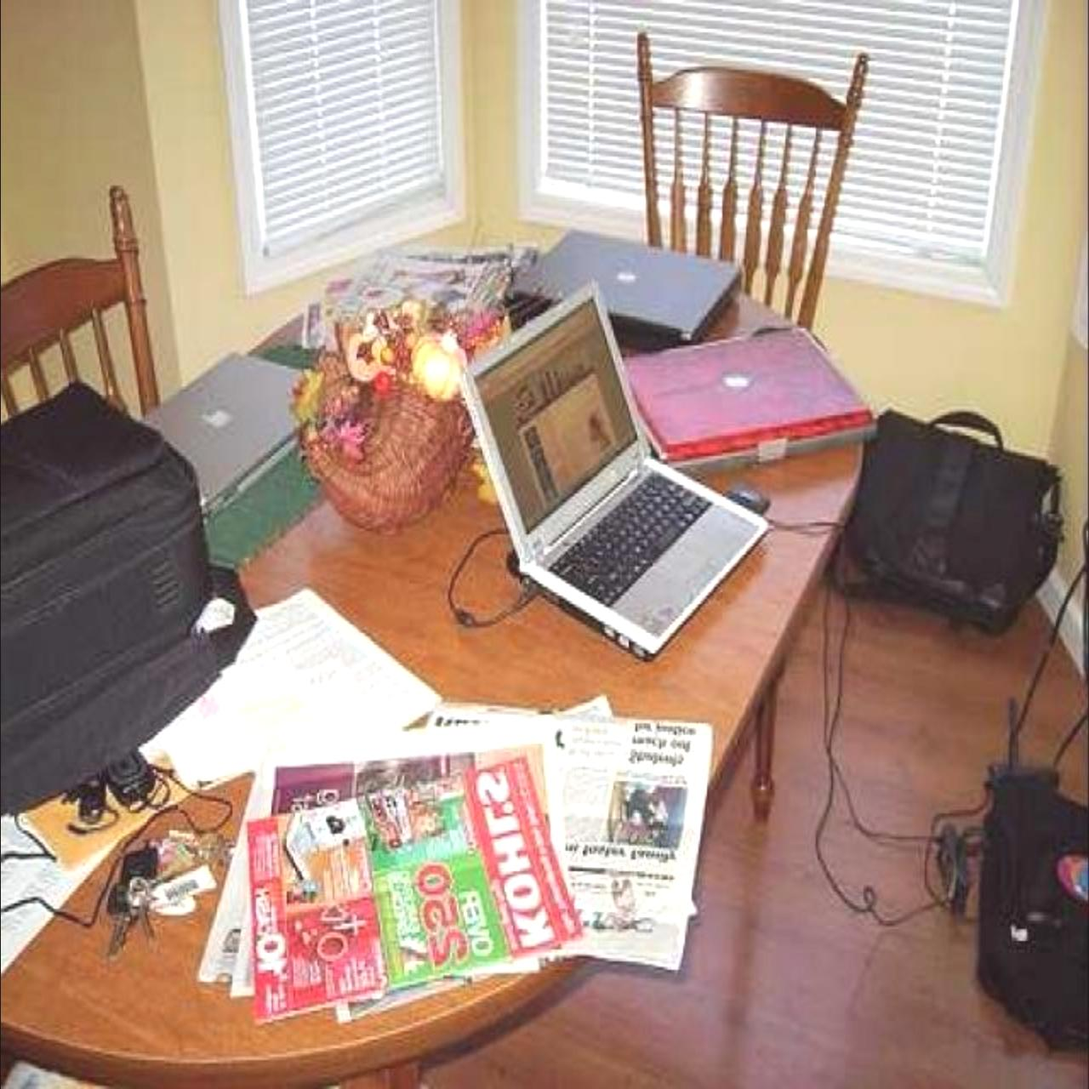laptop: (448, 294, 771, 659)
